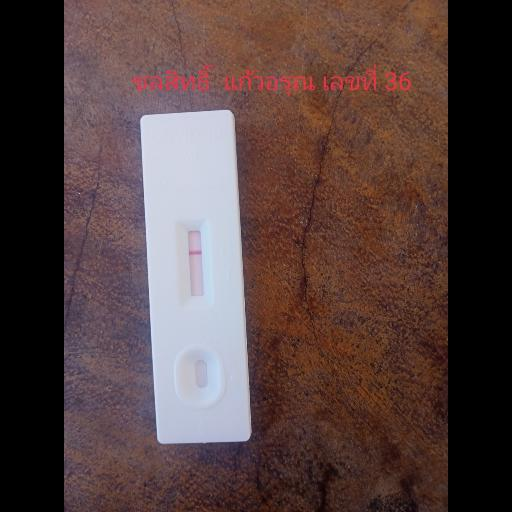Neg: (140, 108, 255, 445)
